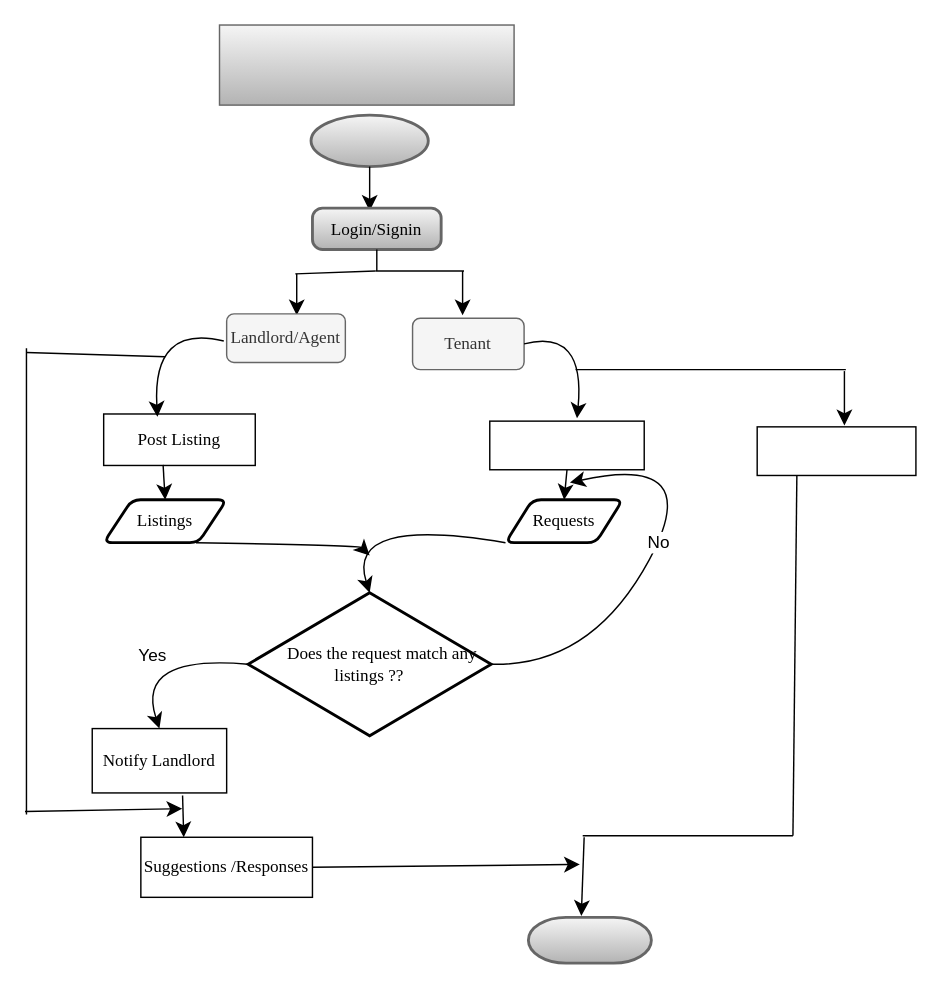
This 941x990 diagram has some shape labels left out. Here are the shapes that lost their labels. From the top down, the centre of each, then its label:
pixel 366 64: NYUMBANOW FLOWCHART
pixel 369 140: START
pixel 566 445: Make a request
pixel 836 450: Refer/Review
pixel 589 939: END
